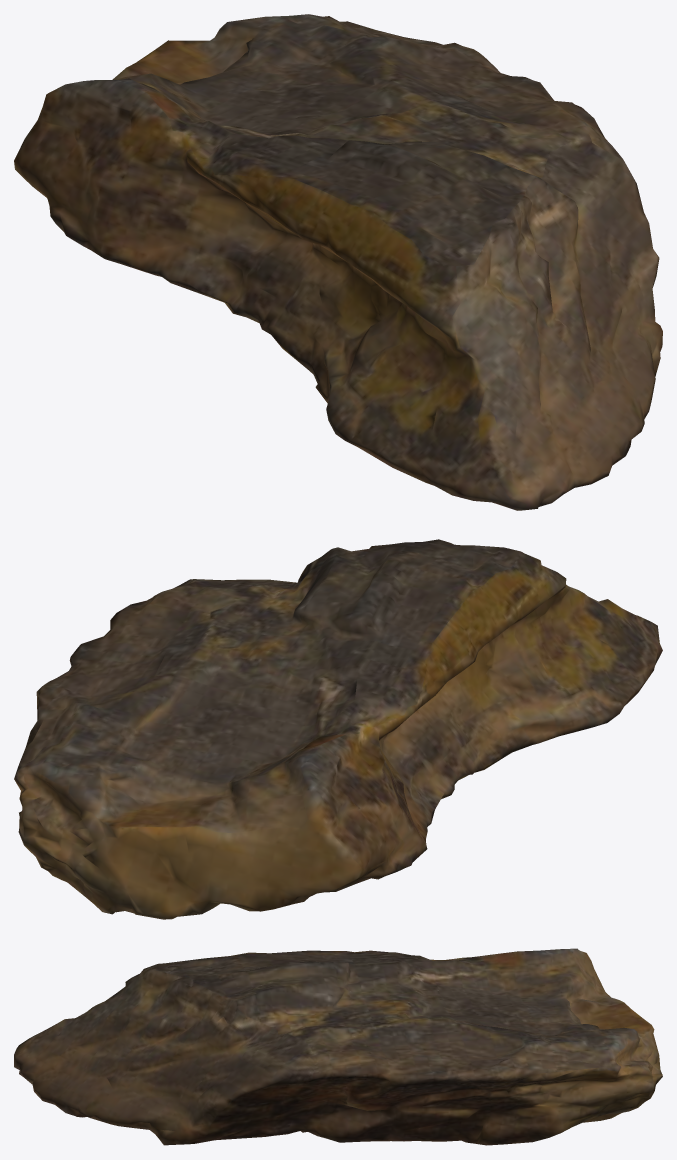
The picture shows the model from 3 angles, top to bottom: view 1: azimuth 30°, elevation 25°; view 2: azimuth 150°, elevation 25°; view 3: azimuth 270°, elevation 25°; orthographic projection. The views are drawn at different scales.
Visible parts, largest first — view 1: rock_09_lod0; view 2: rock_09_lod0; view 3: rock_09_lod0.
Part boxes in pixels (x1,y1,x2,y2): rock_09_lod0: (14, 14, 662, 510); rock_09_lod0: (14, 539, 662, 919); rock_09_lod0: (14, 948, 662, 1145).
Size of the model in its own units: 0.0739 by 0.0328 by 0.1446.
Materials: 1 (1 with a texture image).
